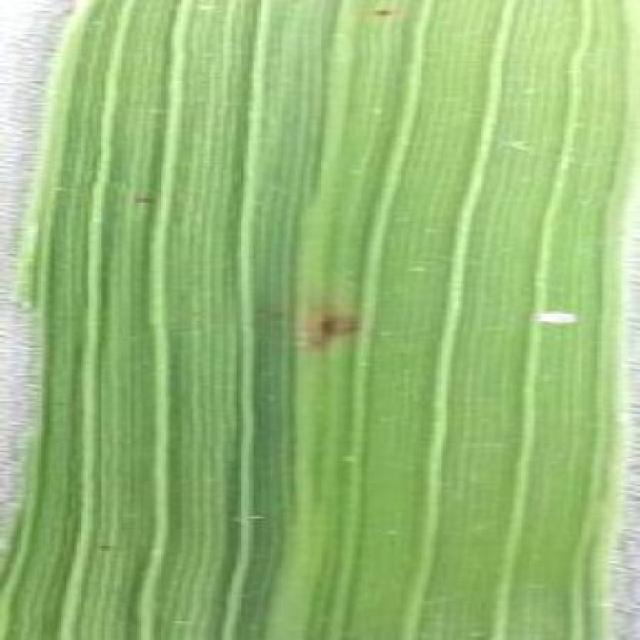Bacterial_Leaf_Blight: (520, 298, 592, 353), (299, 301, 363, 354)
Leaf_Blast: (219, 503, 279, 532), (160, 610, 208, 639), (361, 0, 405, 25), (125, 184, 167, 210), (188, 0, 232, 22), (87, 532, 124, 558), (253, 302, 290, 326)
